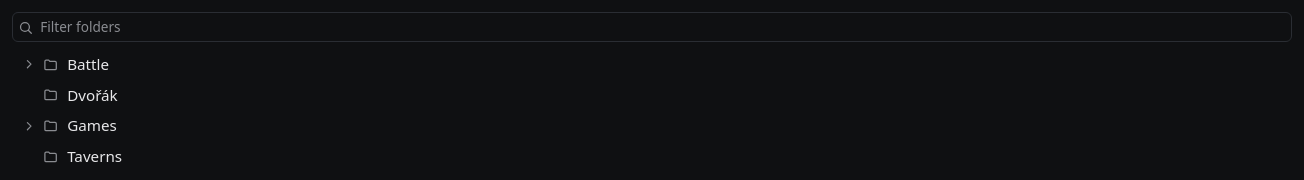
Test: FolderTree › filter shows matches plus their ancestors and hides the rest
Expected: the text "Battle" is shown, [67,54,109,74]
Type "sky" into the search field labelled "Filter folders" at coordinates (652, 27), box [12,12,1292,42]
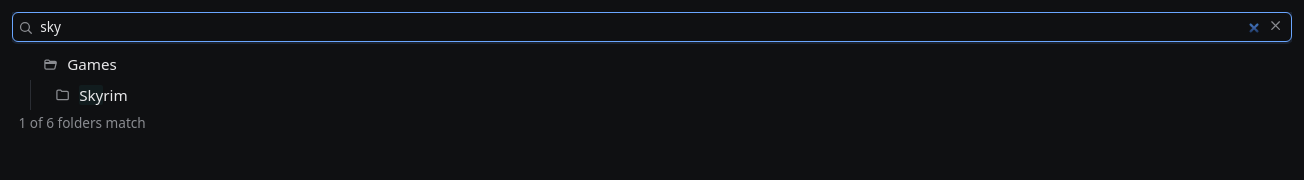
Now the list item titled "Games/Skyrim" is shown, box [12,80,1292,110]
Now the text titled "Battle" is gone
Now the text titled "Taverns" is gone
